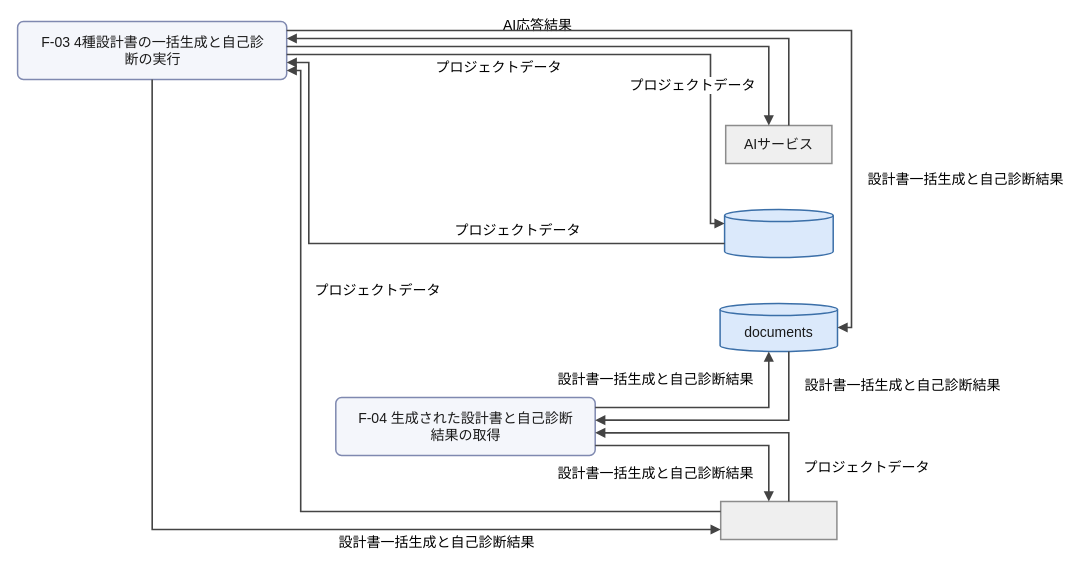
Image size: 1081x568. Some labels were removed from this diagram. Here are the shapes that lost their labels. From the top down, the centre of each, then its label:
At pixel 778 233: "projects".
At pixel 778 520: "クライアント".
